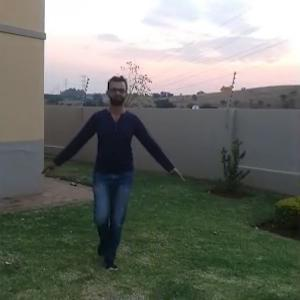land: (62, 83, 165, 262)
